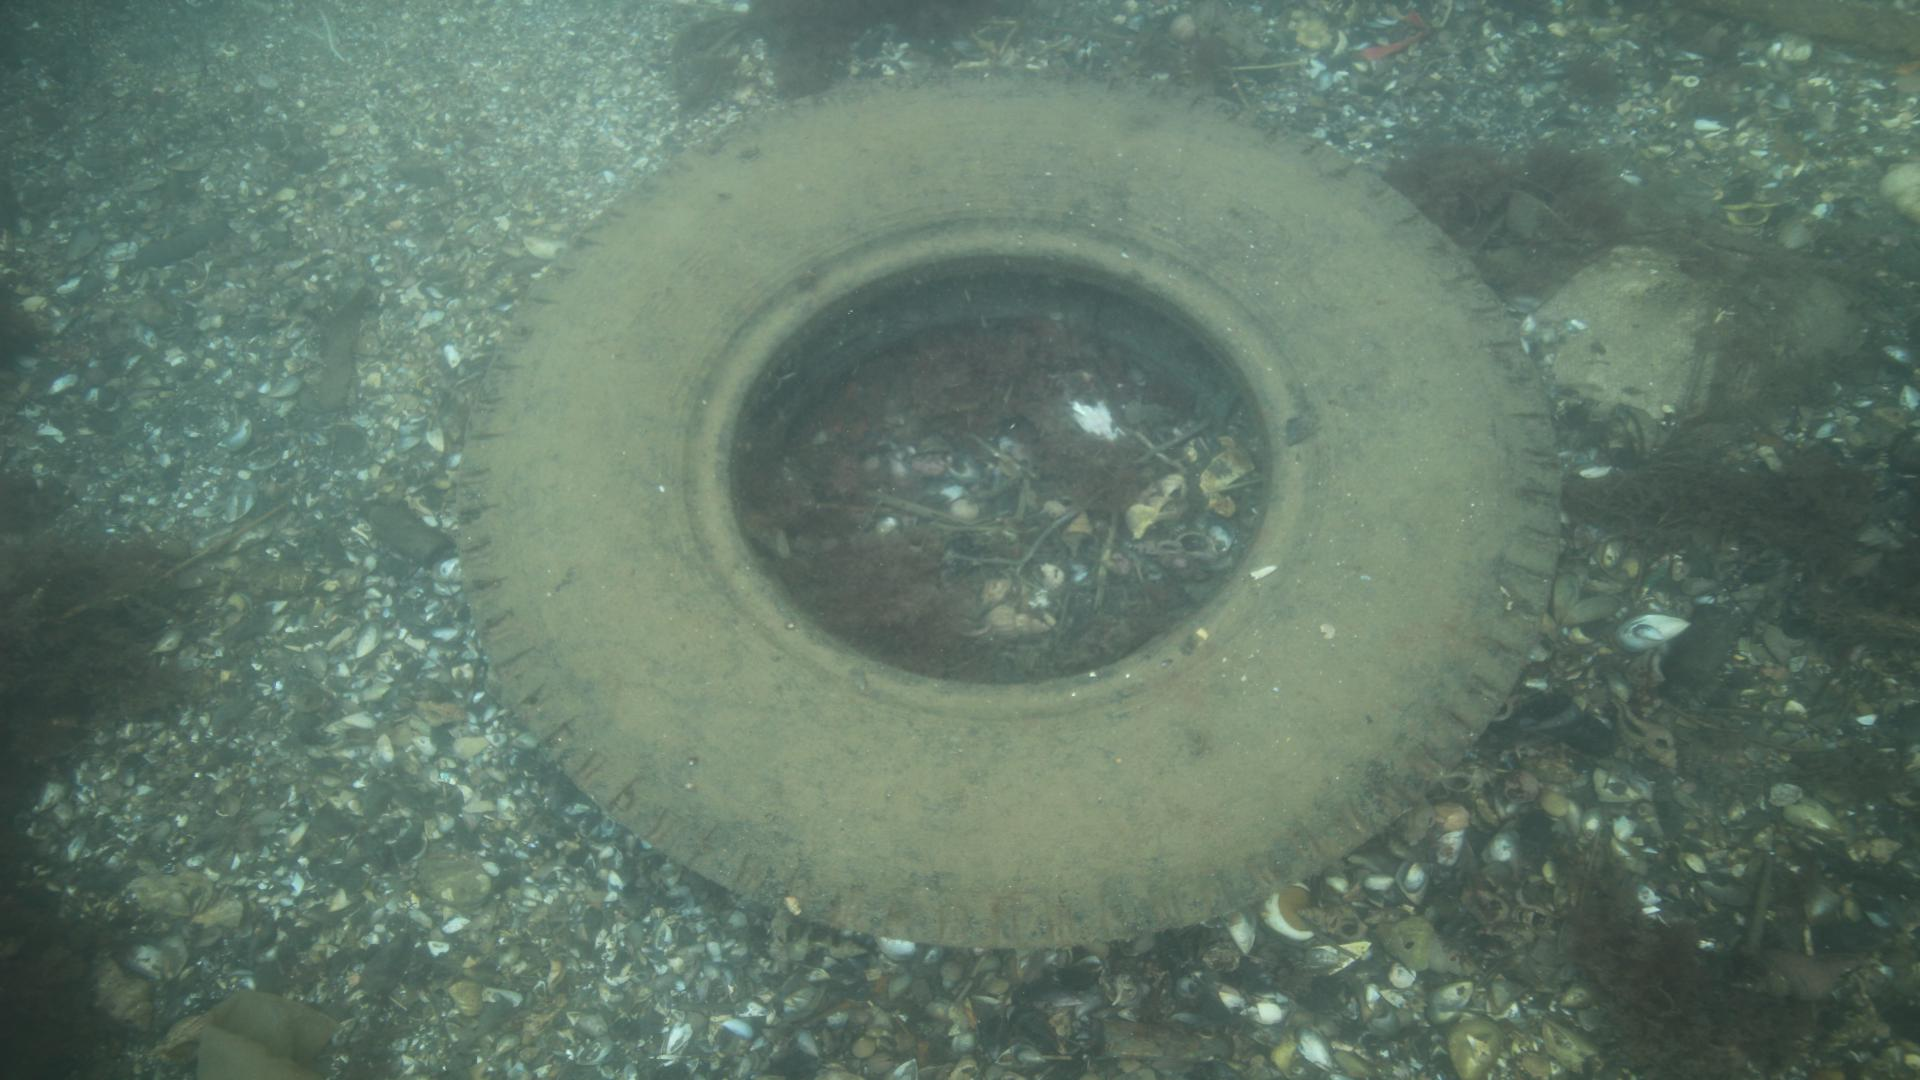tire: (455, 71, 1563, 949)
